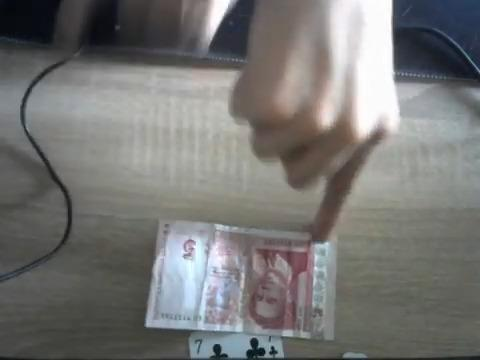5leva: (146, 222, 317, 338)
